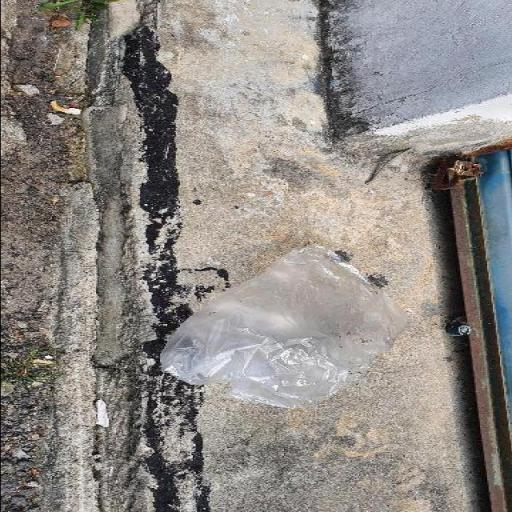plastic-bag: (158, 240, 408, 411)
